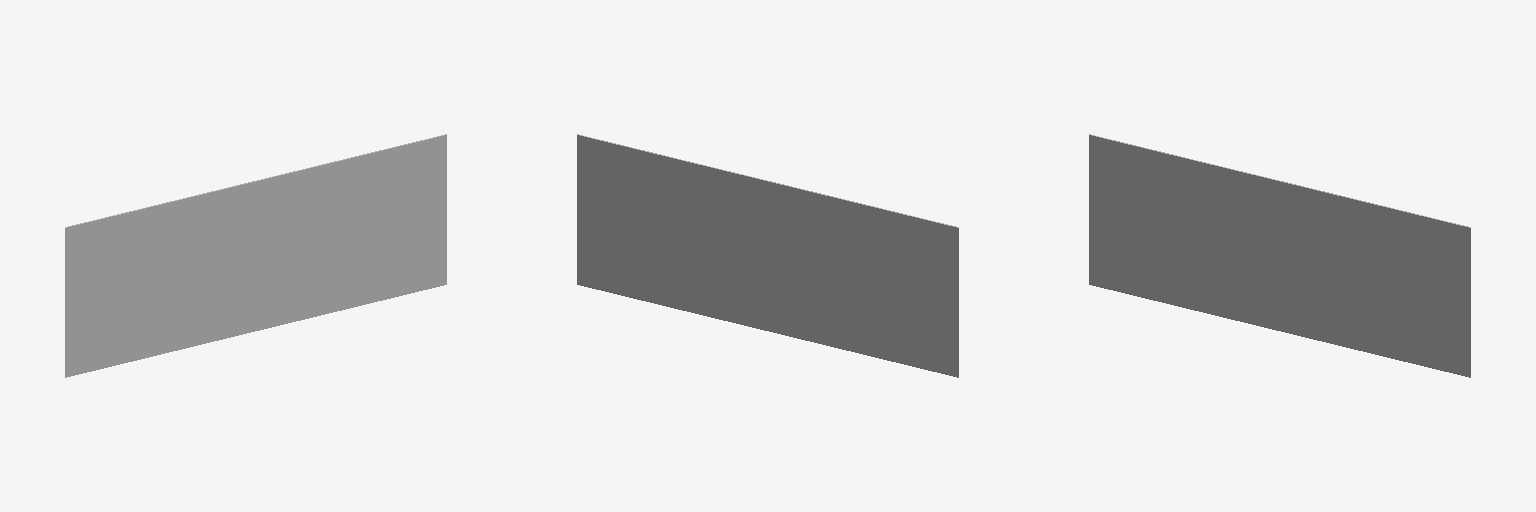
File: PLATFORM-0-jetpack platform.obj
3 renders of one model, left to right at view 1: azimuth 30°, elevation 25°; view 2: azimuth 150°, elevation 25°; view 3: azimuth 330°, elevation 25°, orthographic.
Parts seen in each view (by area): view 1: jetpack platform; view 2: jetpack platform; view 3: jetpack platform.
Boxes of the visible parts, x1=… form: jetpack platform: x1=65, y1=134, x2=446, y2=377; jetpack platform: x1=577, y1=134, x2=958, y2=377; jetpack platform: x1=1089, y1=134, x2=1470, y2=377.
Size of the model in its own units: 25.6 by 9.6 by 0.1.